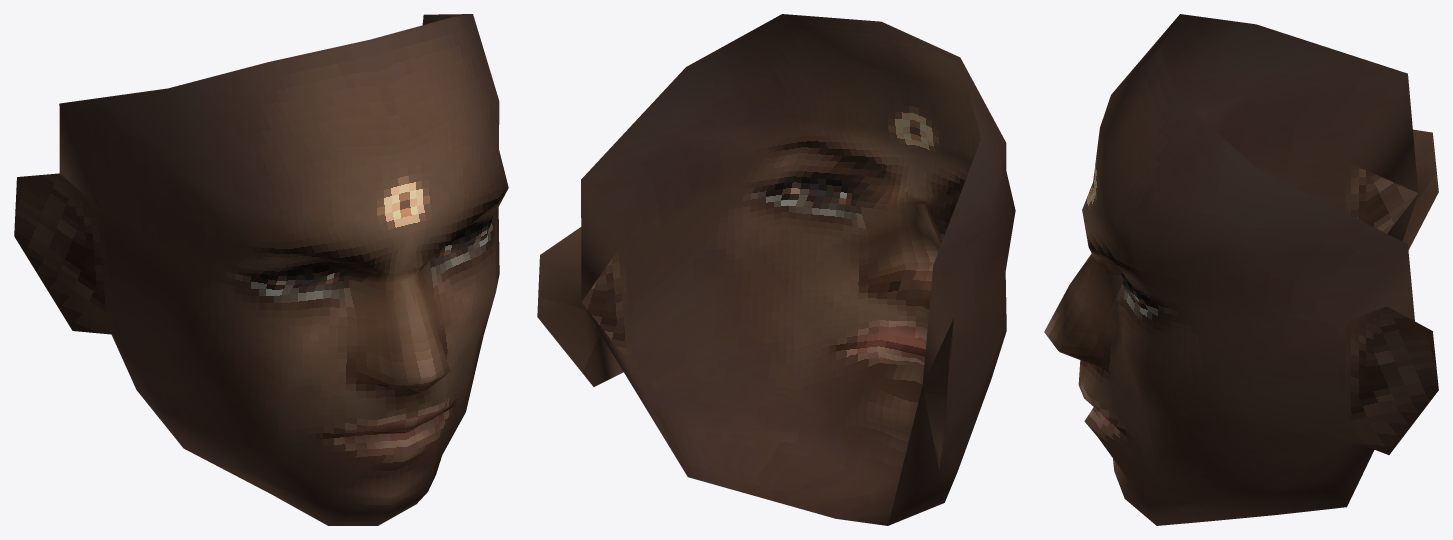
3 renders of one model, left to right at view 1: azimuth 30°, elevation 25°; view 2: azimuth 150°, elevation 25°; view 3: azimuth 270°, elevation 25°, orthographic. The views are drawn at different scales.
Visible parts, largest first — view 1: editpl_m-0000-112, editpl_m-0000-111; view 2: editpl_m-0000-112, editpl_m-0000-111; view 3: editpl_m-0000-112, editpl_m-0000-111.
Boxes of the visible parts, <box> form: editpl_m-0000-112: <box>14,14,508,458</box>; editpl_m-0000-111: <box>114,335,465,525</box>; editpl_m-0000-112: <box>537,14,1015,525</box>; editpl_m-0000-111: <box>633,263,990,525</box>; editpl_m-0000-112: <box>1044,14,1438,506</box>; editpl_m-0000-111: <box>1058,350,1346,525</box>.
Bounding box in the file's own units: 17.18 × 18.64 × 14.44.
1 material, 1 textured.
